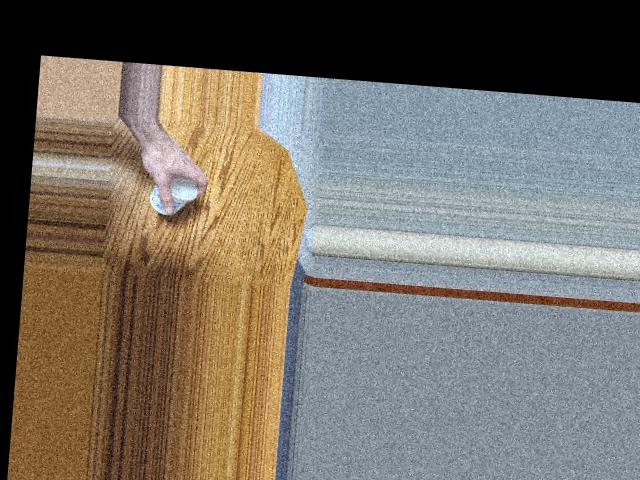cotage: (153, 172, 209, 219)
